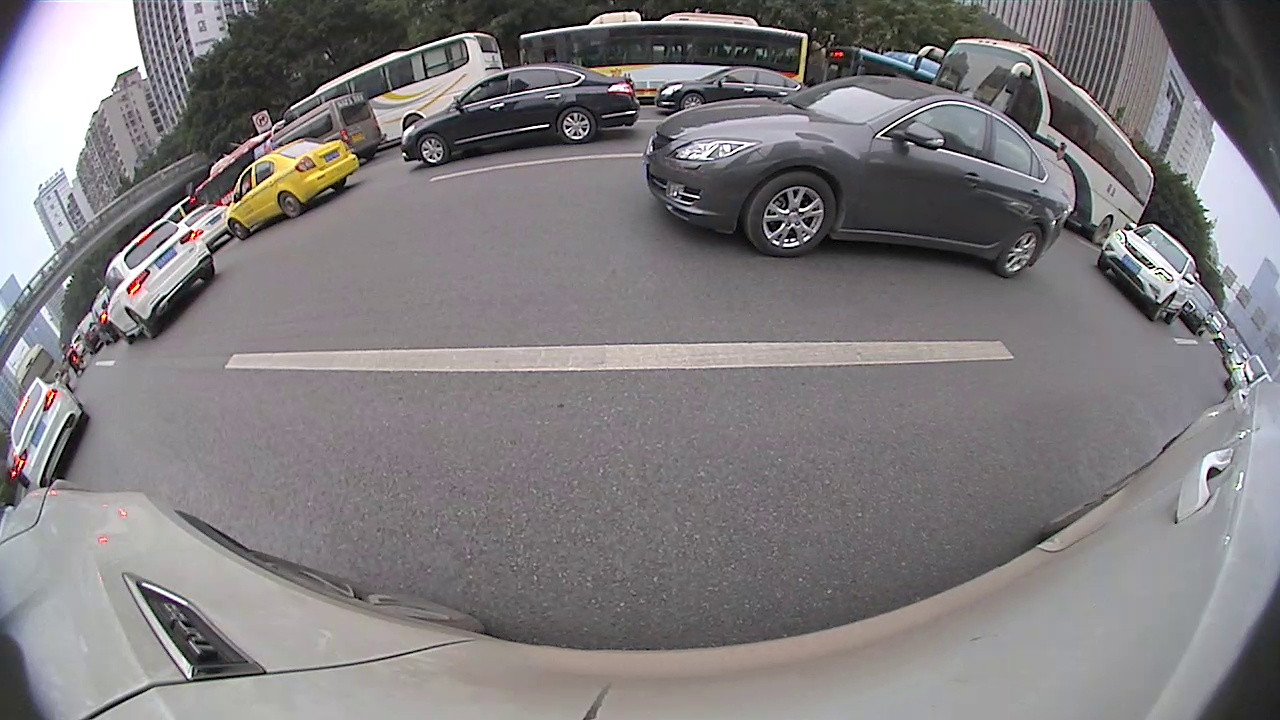bus: (932, 29, 1157, 245), (282, 29, 501, 147), (523, 12, 809, 96), (194, 127, 276, 210), (827, 49, 941, 87), (12, 343, 68, 397)
car: (647, 74, 1071, 279), (399, 62, 638, 170), (100, 216, 215, 346), (1099, 218, 1196, 325), (253, 87, 381, 166), (6, 379, 88, 488), (655, 66, 805, 113), (174, 200, 232, 245), (89, 287, 124, 343), (1180, 282, 1215, 337)
front: (740, 172, 837, 255), (417, 135, 445, 166), (1147, 293, 1176, 321), (111, 322, 133, 342), (228, 219, 247, 239), (681, 94, 703, 110)
rear: (995, 228, 1043, 278), (557, 109, 595, 144), (125, 308, 155, 338), (278, 191, 299, 217), (1093, 216, 1112, 243), (1163, 303, 1185, 323)
rider: (62, 341, 84, 373)
